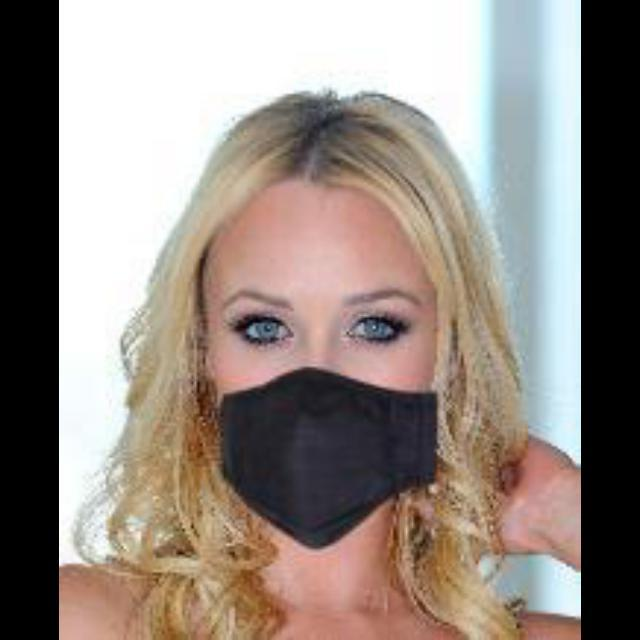suspicion: (178, 97, 484, 516)
